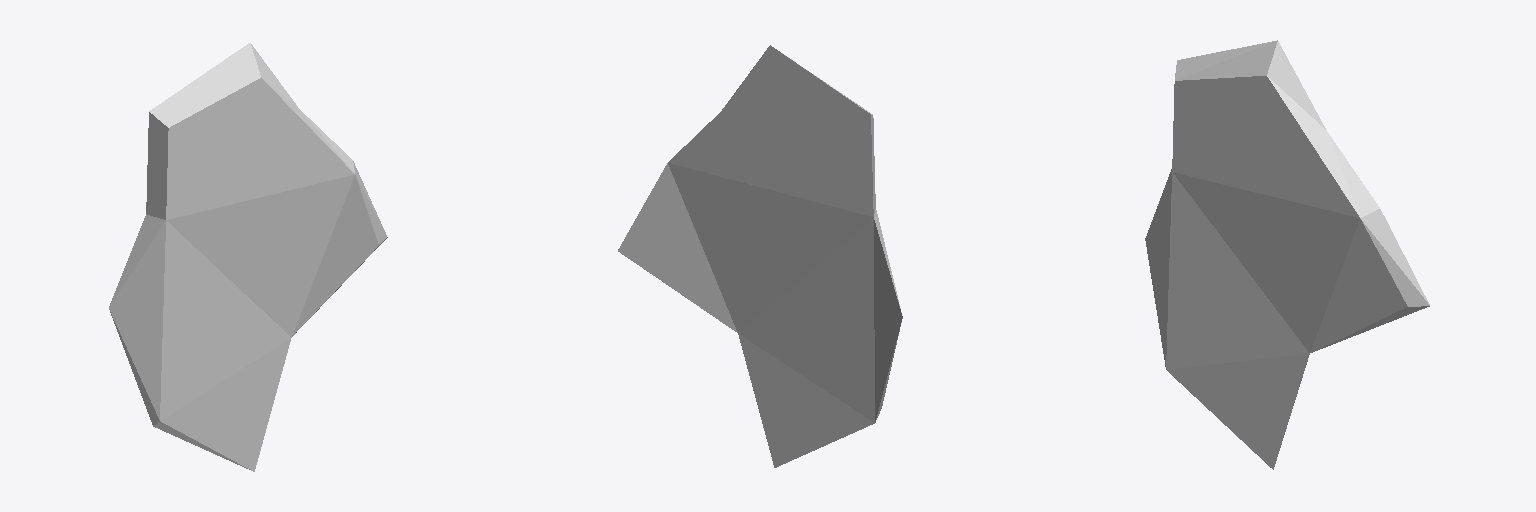
File: stg600_obj_longtank_bp2.obj
3 views of the same model, side by side, from view 1: azimuth 30°, elevation 25°; view 2: azimuth 150°, elevation 25°; view 3: azimuth 330°, elevation 25° (orthographic).
Parts seen in each view (by area): view 1: polygon0; view 2: polygon0; view 3: polygon0.
Part boxes in pixels (left/top/right/bottom): polygon0: left=109, top=43, right=387, bottom=471; polygon0: left=618, top=45, right=902, bottom=467; polygon0: left=1145, top=40, right=1429, bottom=469.
Bounding box in the file's own units: 7.37 × 10.65 × 0.851.